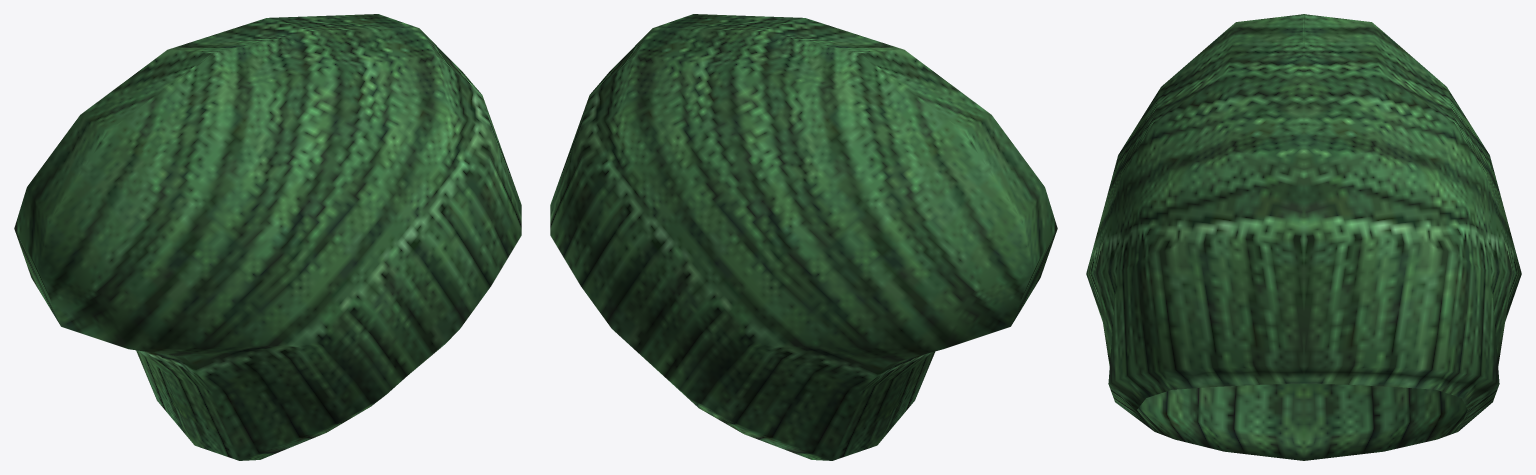
Rendered from hat_0400046.FBX.
3 renders of one model, left to right at view 1: azimuth 30°, elevation 25°; view 2: azimuth 150°, elevation 25°; view 3: azimuth 270°, elevation 25°, orthographic. The views are drawn at different scales.
Visible parts, largest first — view 1: hat_0400046; view 2: hat_0400046; view 3: hat_0400046.
Boxes of the visible parts, x1=… form: hat_0400046: x1=14, y1=14, x2=521, y2=460; hat_0400046: x1=550, y1=14, x2=1057, y2=460; hat_0400046: x1=1086, y1=14, x2=1521, y2=460.
Bounding box in the file's own units: 34.7 × 28.79 × 25.58.
